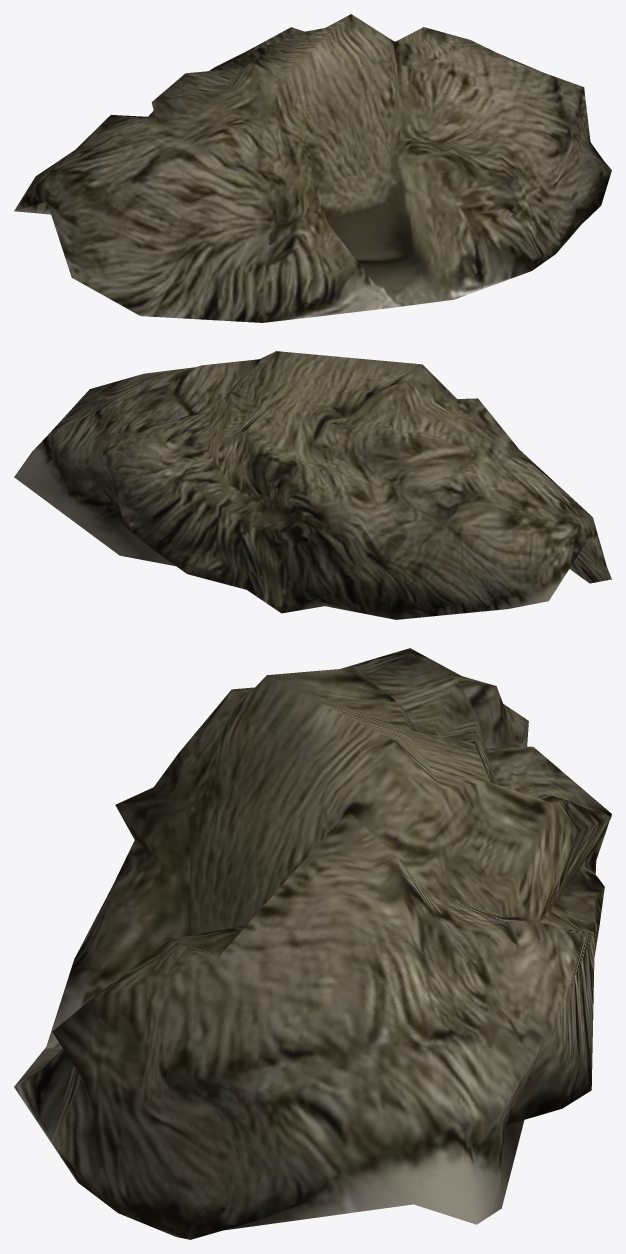
The model's file is 036-hood.glb.
The picture shows the model from 3 angles, top to bottom: view 1: azimuth 30°, elevation 25°; view 2: azimuth 150°, elevation 25°; view 3: azimuth 270°, elevation 25°; orthographic projection. The views are drawn at different scales.
Parts seen in each view (by area): view 1: geometry_0; view 2: geometry_0; view 3: geometry_0.
Boxes of the visible parts, x1=… form: geometry_0: x1=14, y1=14, x2=611, y2=322; geometry_0: x1=14, y1=351, x2=611, y2=619; geometry_0: x1=14, y1=648, x2=611, y2=1239.
Size of the model in its own units: 0.3758 by 0.1402 by 0.2074.
Materials: 1 (1 with a texture image).
